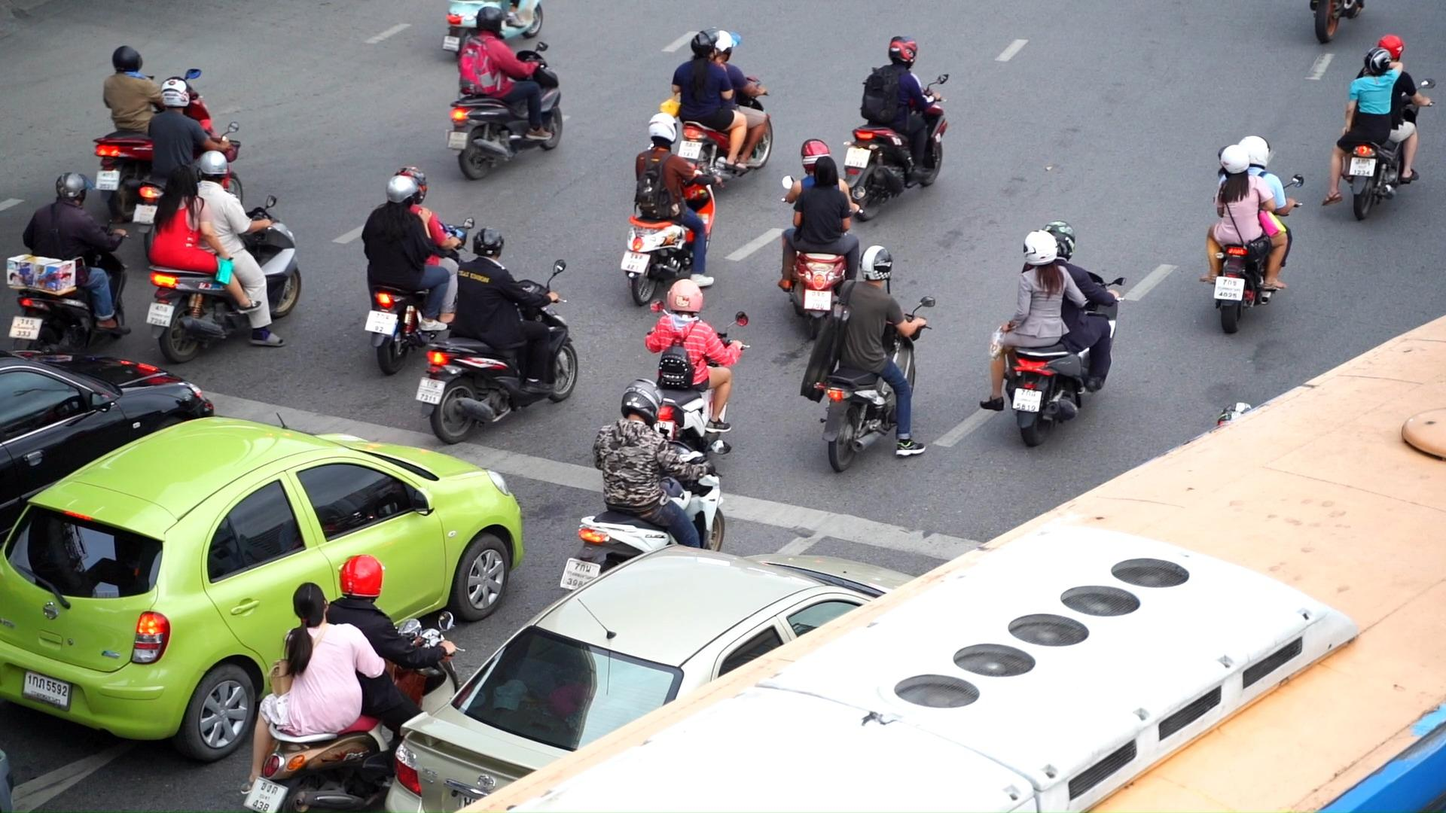driver: (240, 553, 467, 813), (559, 378, 731, 591), (414, 227, 578, 446), (145, 150, 302, 365), (980, 221, 1127, 446), (799, 244, 935, 473), (361, 165, 474, 376), (7, 172, 132, 354), (1320, 34, 1436, 221), (93, 45, 213, 224), (1198, 135, 1304, 334), (132, 76, 243, 264), (620, 112, 727, 307), (446, 6, 563, 181), (842, 34, 950, 222), (645, 279, 752, 458), (777, 138, 866, 339), (659, 27, 773, 182)
helmet: (621, 379, 664, 430), (339, 554, 383, 603), (56, 172, 95, 206), (394, 166, 428, 205), (1043, 221, 1075, 262), (1023, 230, 1058, 266), (668, 279, 703, 314), (860, 245, 893, 282), (194, 150, 228, 184), (386, 175, 420, 208), (1218, 144, 1250, 179), (1238, 136, 1270, 170), (801, 138, 830, 175), (888, 35, 918, 70), (473, 227, 504, 259), (691, 27, 720, 61), (476, 6, 506, 38), (161, 76, 190, 108), (649, 112, 677, 144), (112, 45, 143, 72), (716, 30, 742, 62), (1364, 47, 1392, 76), (1377, 34, 1404, 62)
no-helmet: (293, 582, 329, 627), (165, 164, 199, 195), (814, 156, 838, 187)
